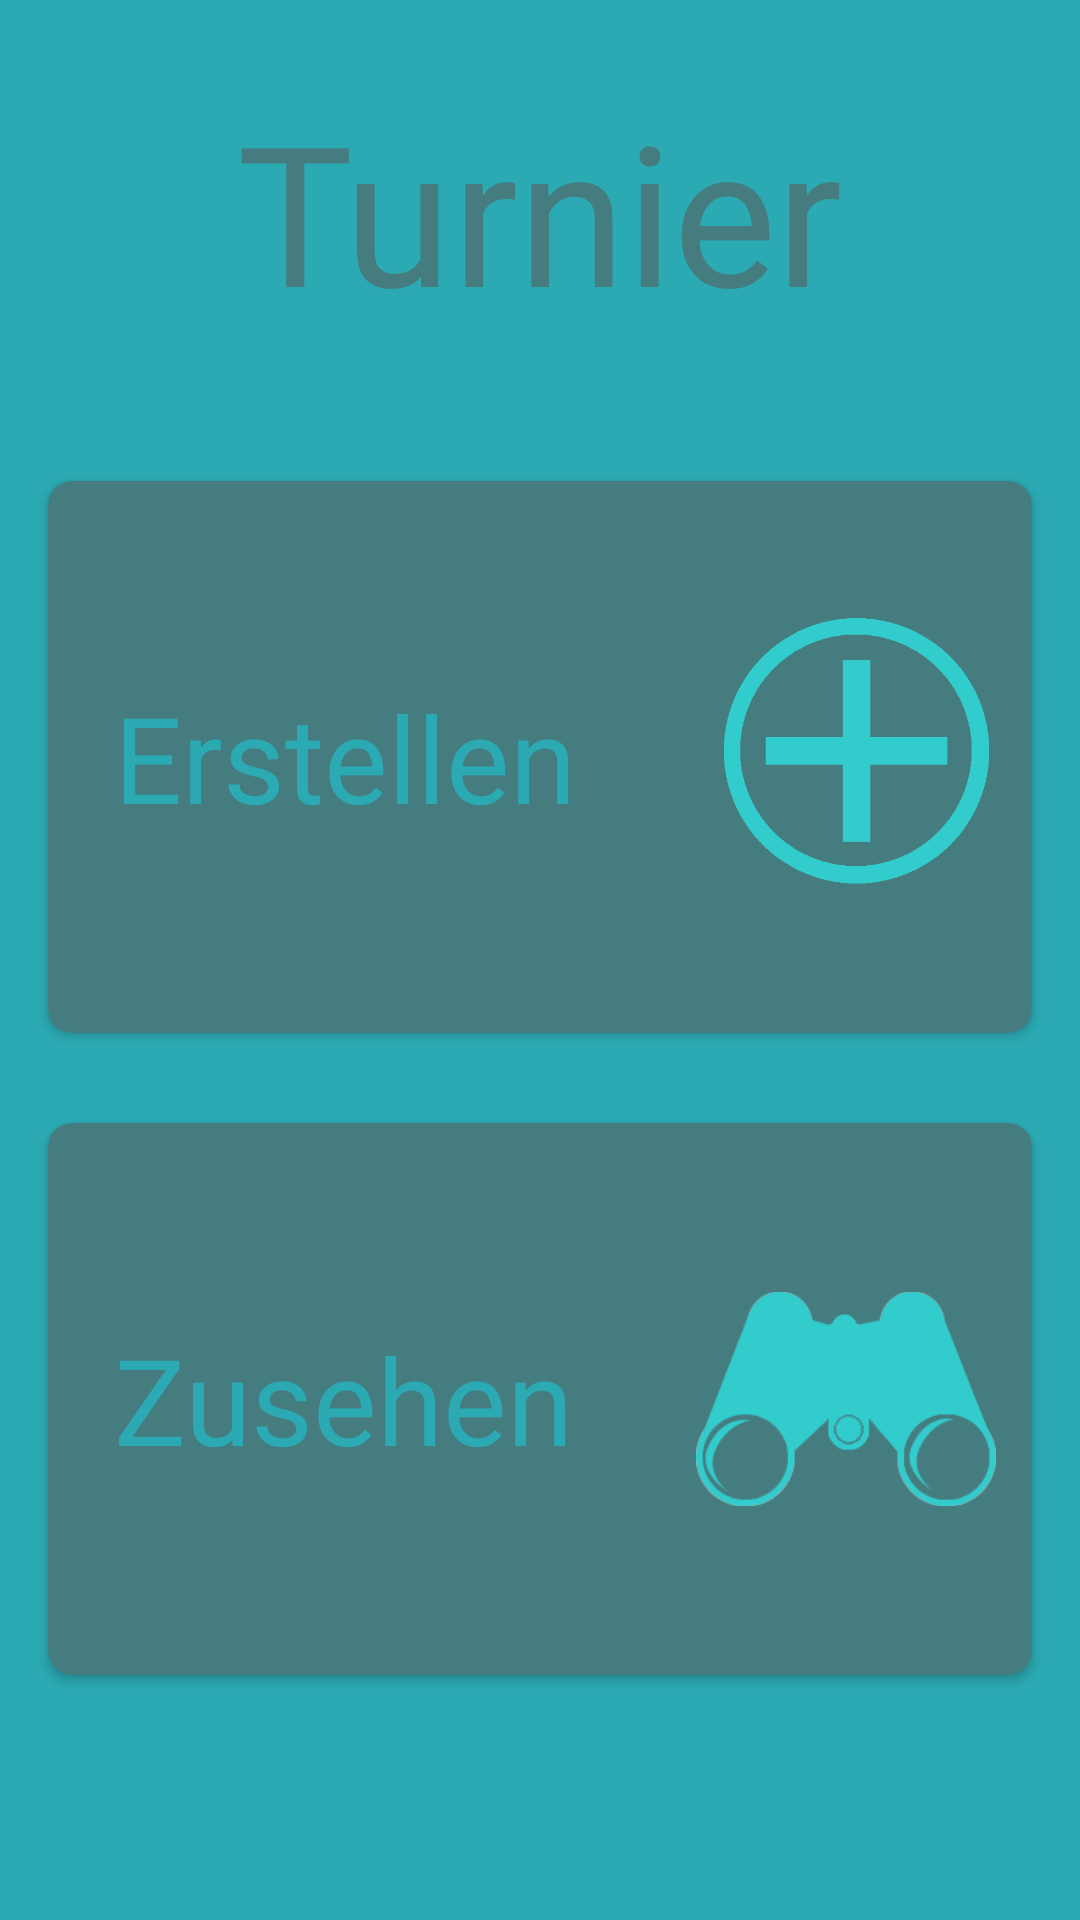

Screen size 1080x1920. Icon name, then its box in pixels as bbox=(x1, y1, x2, y2):
create: bbox=(724, 618, 989, 884)
spectate: bbox=(696, 1292, 996, 1506)
